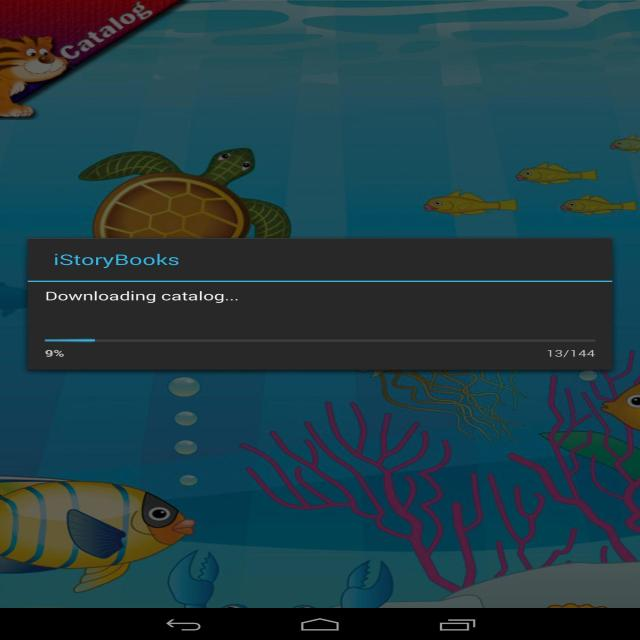heading: (46, 248, 180, 270)
image: (0, 0, 640, 609)
text: (40, 287, 241, 305)
